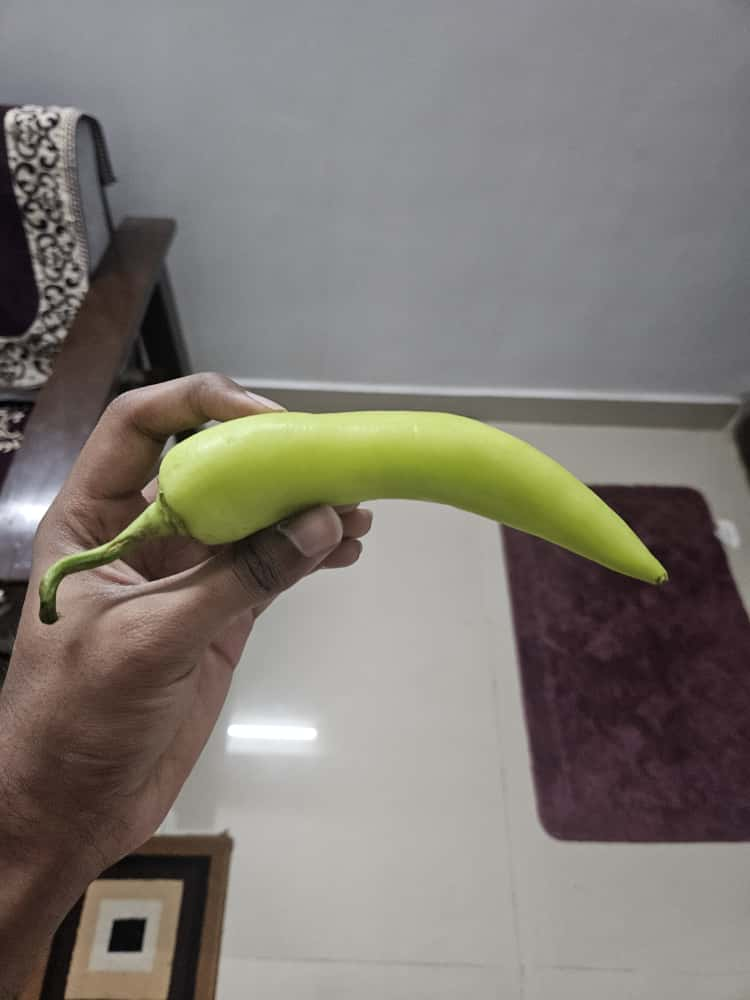wet: (11, 407, 690, 609)
